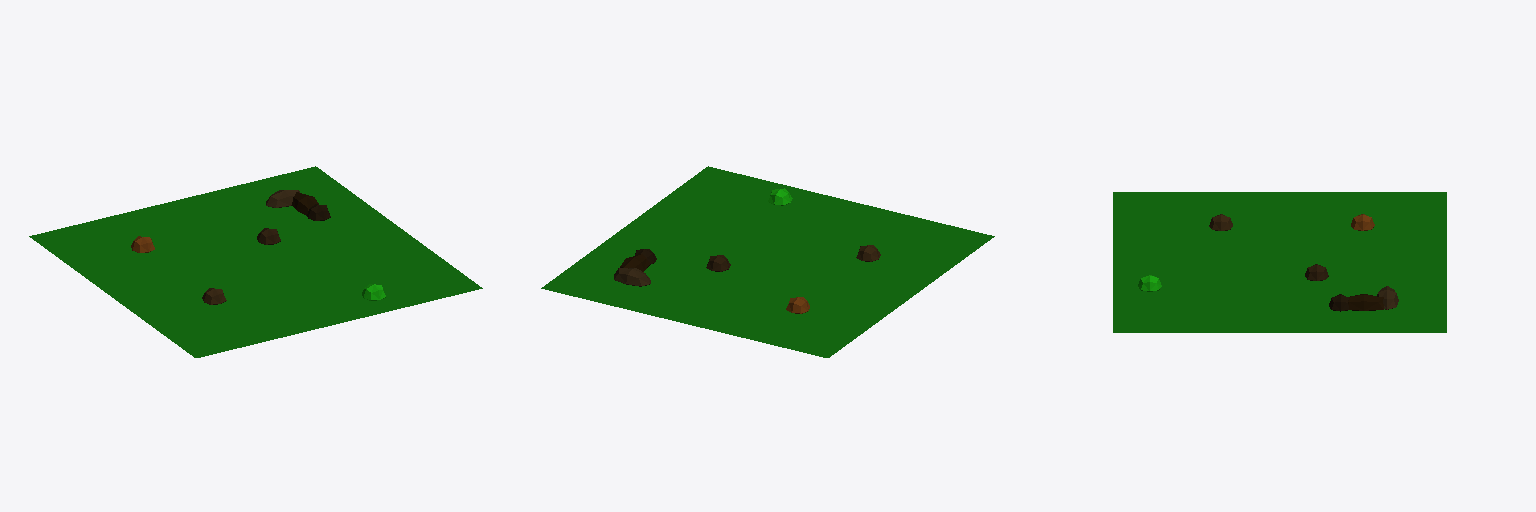
Rendered from teste.obj.
3 renders of one model, left to right at view 1: azimuth 30°, elevation 25°; view 2: azimuth 150°, elevation 25°; view 3: azimuth 270°, elevation 25°, orthographic.
Parts seen in each view (by area): view 1: Plane_Plane.001; view 2: Plane_Plane.001; view 3: Plane_Plane.001, Cube.005_Cube.007.
Part boxes in pixels (x1,y1,x2,y2): Plane_Plane.001: (29, 166, 482, 357); Plane_Plane.001: (541, 166, 994, 357); Plane_Plane.001: (1113, 192, 1446, 332); Cube.005_Cube.007: (1348, 294, 1383, 310).
Size of the model in its own units: 13.95 by 0.6003 by 14.05.